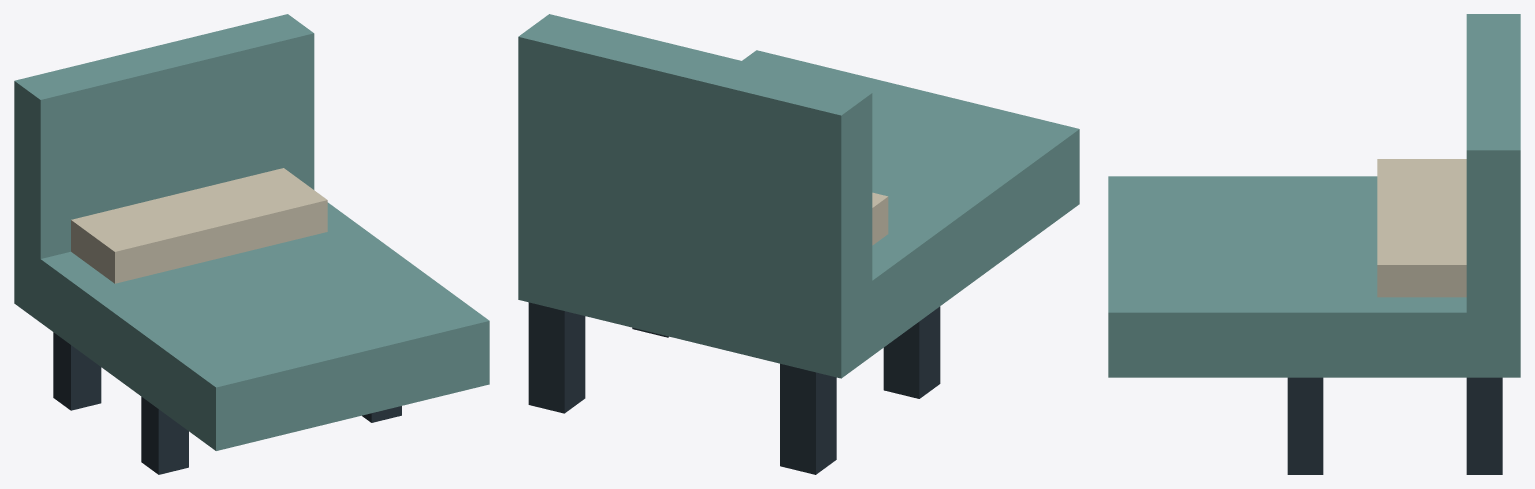
File: health-01.glb
3 views of the same model, side by side, from view 1: azimuth 30°, elevation 25°; view 2: azimuth 150°, elevation 25°; view 3: azimuth 270°, elevation 25° (orthographic). The views are drawn at different scales.
Visible parts, largest first — view 1: Patient bed; view 2: Patient bed; view 3: Patient bed.
Part boxes in pixels (x1,y1,x2,y2): Patient bed: (14,14,489,474); Patient bed: (518,14,1079,474); Patient bed: (1108,14,1520,474).
Bounding box in the file's own units: 1.44 × 1.6 × 1.84.
